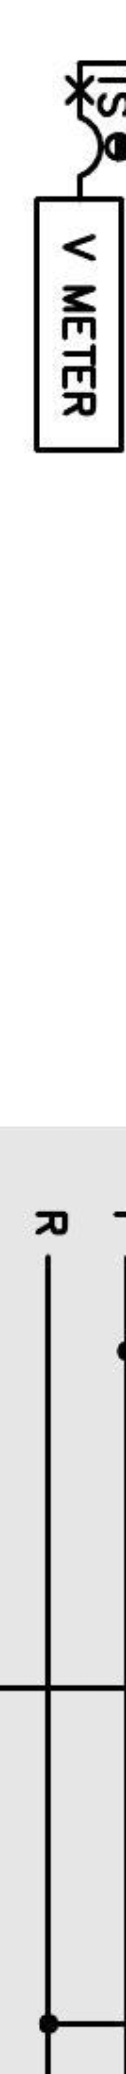v_m_digital: (32, 194, 126, 454)
